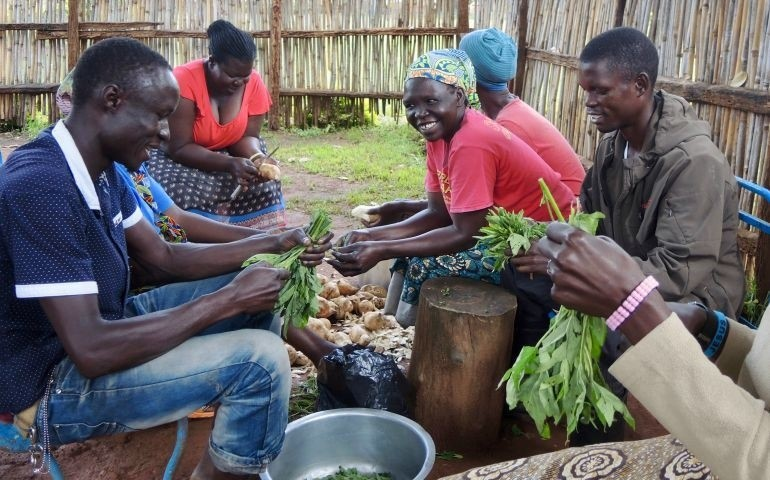face_no_mask: (74, 37, 180, 171), (576, 28, 660, 135), (405, 63, 463, 144), (205, 21, 254, 95)
